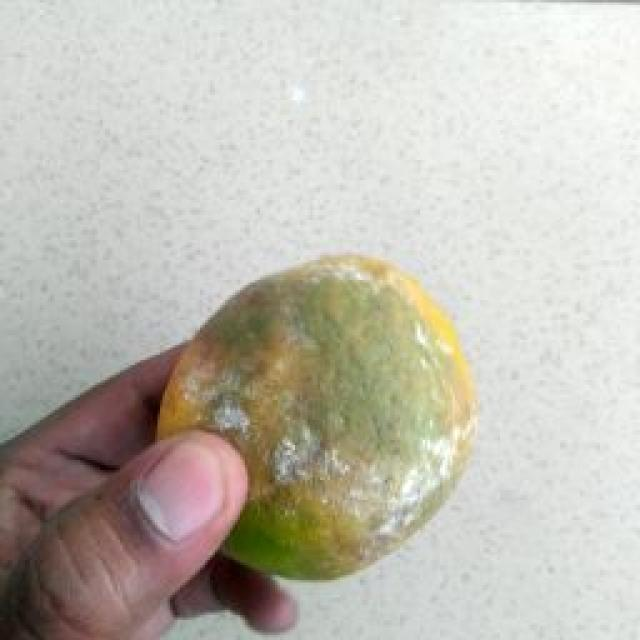Bad_Orange: (158, 255, 478, 578)
